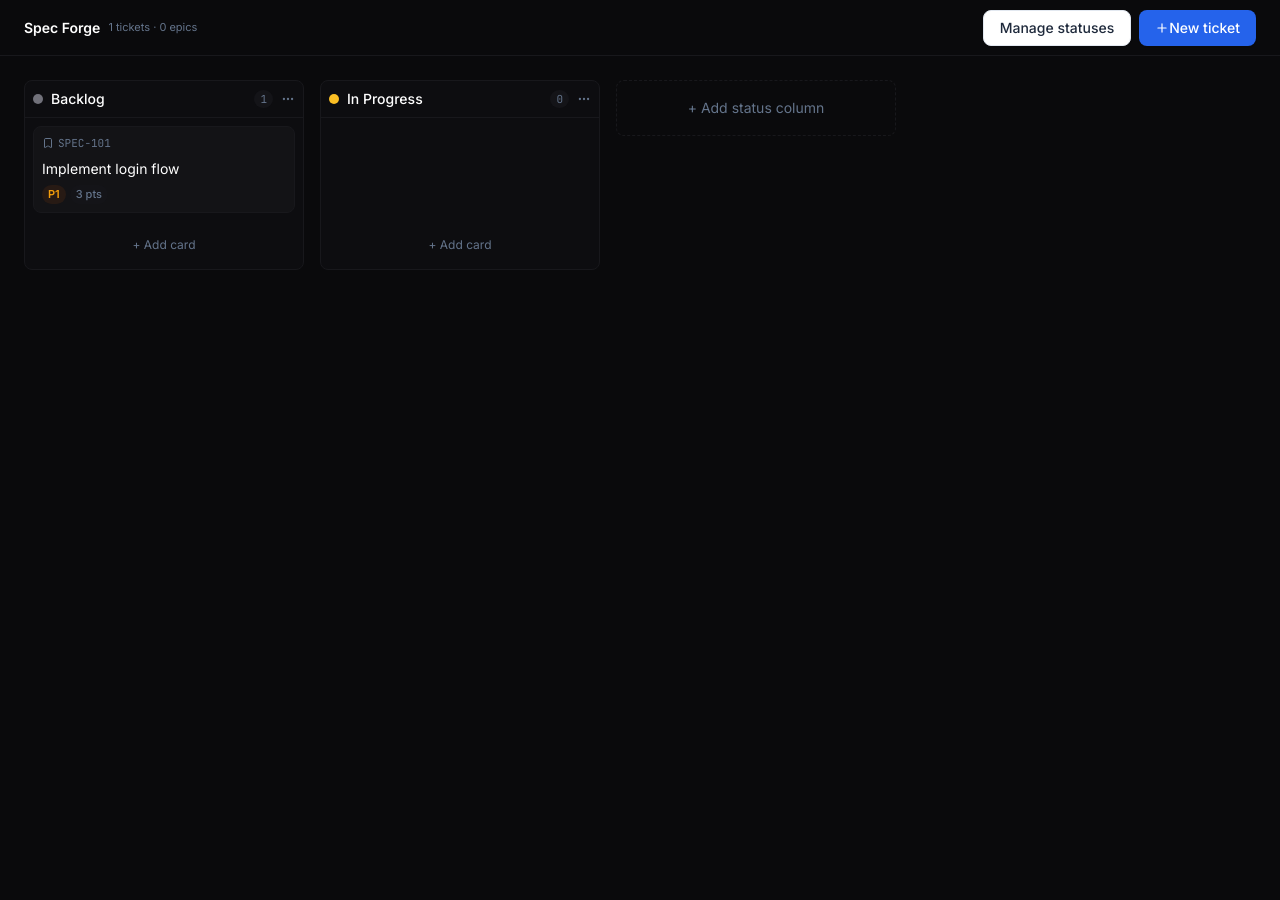
Scenario: BoardPage › opens the Manage Statuses modal via the header button
Click the button "Manage statuses" at (1057, 28), box [983,10,1131,46]
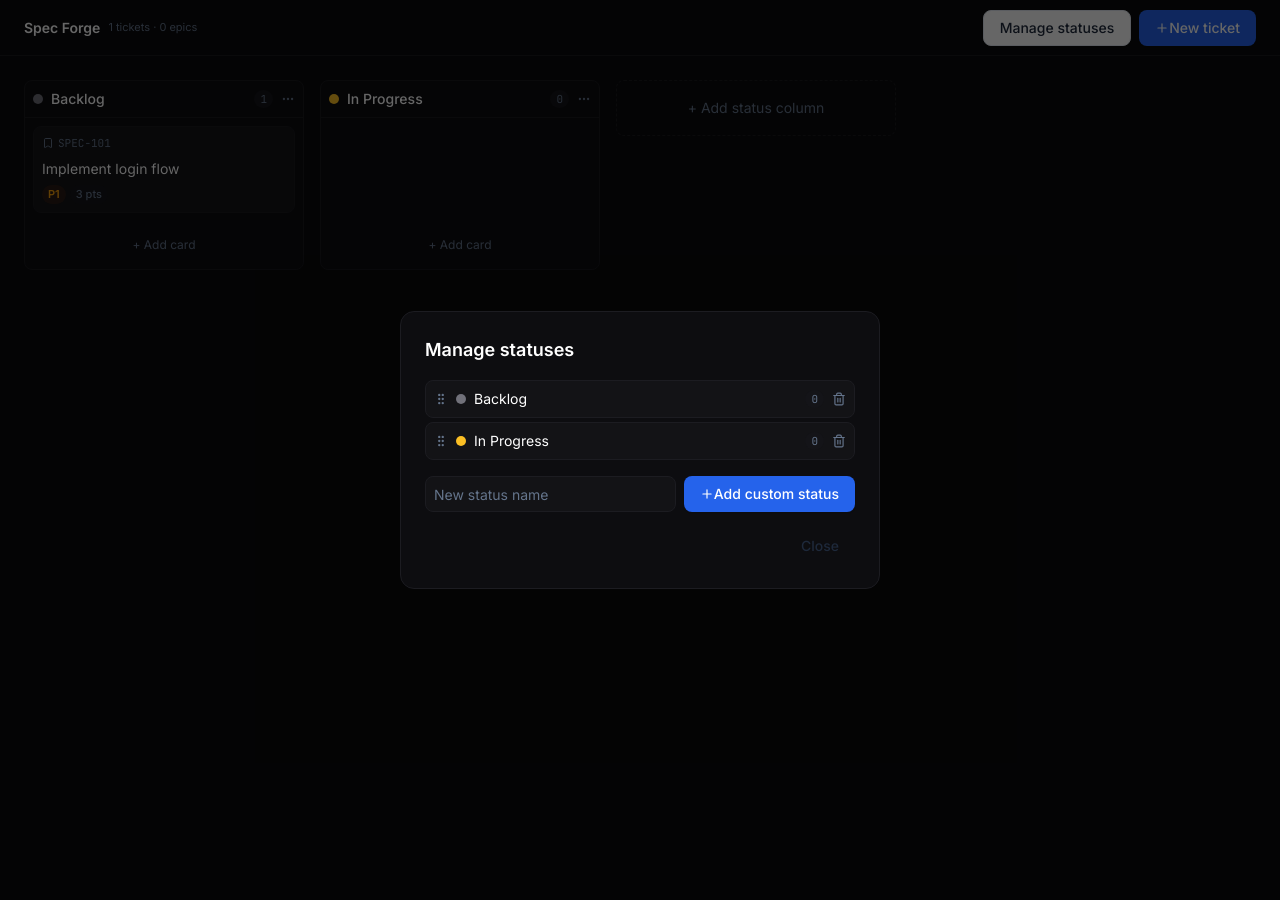
Check: the heading "Manage statuses" is shown, box [425,339,574,360]
